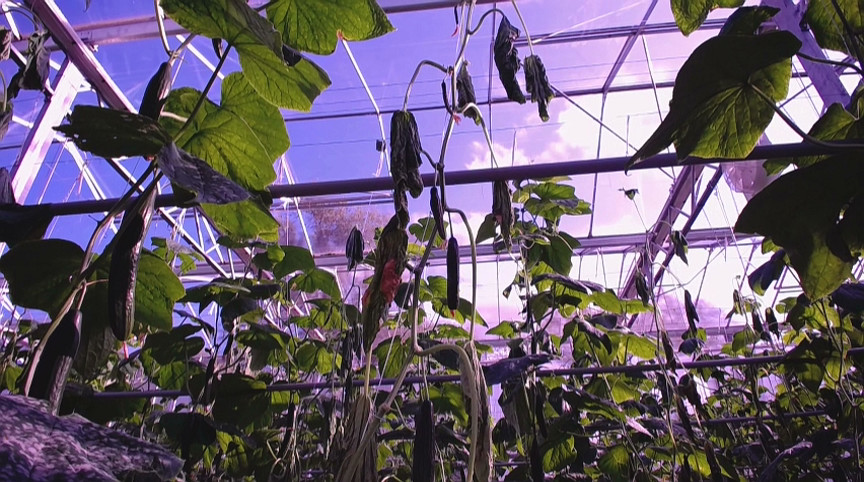cucumber: (107, 189, 159, 341), (32, 309, 86, 414), (136, 61, 175, 122), (411, 400, 438, 482), (445, 238, 461, 314)
